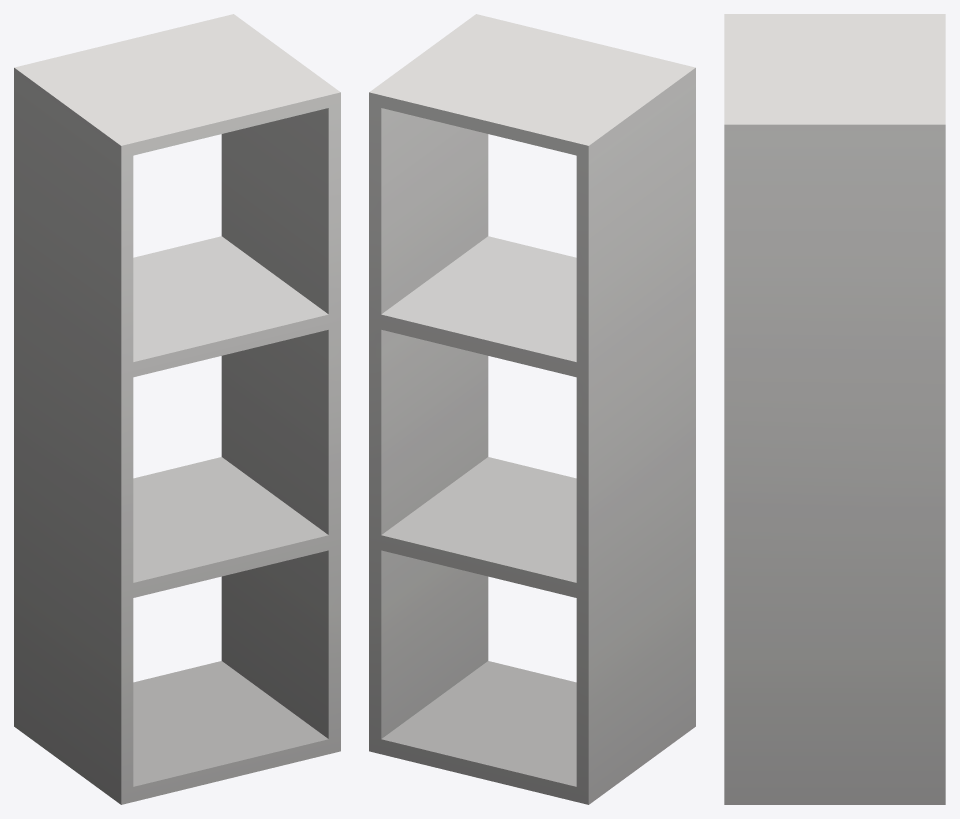
The model's file is Shelving_3Tier_Column_White.fbx.
The picture shows the model from 3 angles, left to right: view 1: azimuth 30°, elevation 25°; view 2: azimuth 150°, elevation 25°; view 3: azimuth 270°, elevation 25°; orthographic projection. The views are drawn at different scales.
Visible parts, largest first — view 1: Shelving_3Tier_Column_White; view 2: Shelving_3Tier_Column_White; view 3: Shelving_3Tier_Column_White.
Boxes of the visible parts, box(x1,y1,x2,y2) form: Shelving_3Tier_Column_White: box(14, 14, 340, 804); Shelving_3Tier_Column_White: box(369, 14, 695, 804); Shelving_3Tier_Column_White: box(724, 14, 945, 804).
Size of the model in its own units: 41.8 by 120 by 35.28.
